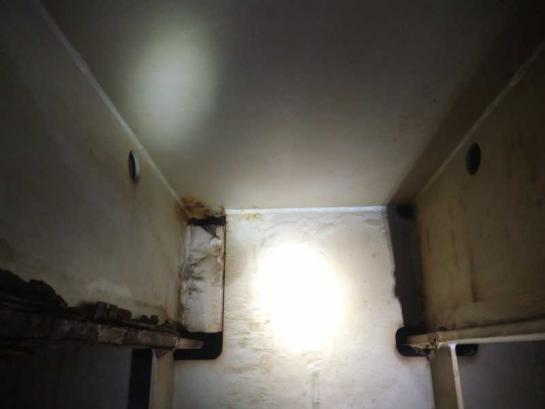corrosion: (171, 192, 232, 238), (464, 251, 483, 303)
